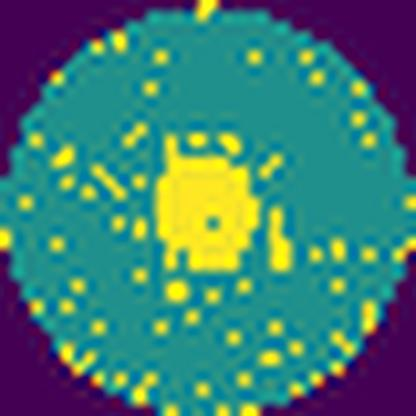Center: (155, 131, 263, 275)
